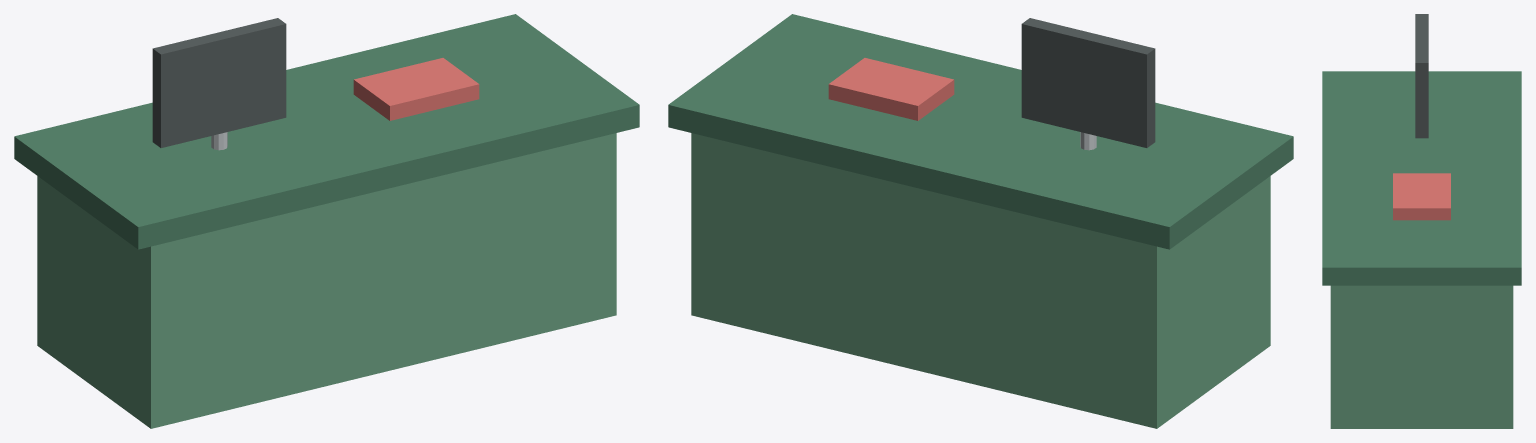
Rendered from checkout_counter.glb.
3 renders of one model, left to right at view 1: azimuth 30°, elevation 25°; view 2: azimuth 150°, elevation 25°; view 3: azimuth 270°, elevation 25°, orthographic. The views are drawn at different scales.
Parts seen in each view (by area): view 1: counter_body, counter_top, screen, scanner; view 2: counter_body, counter_top, screen, scanner; view 3: counter_top, counter_body, scanner, screen.
Part boxes in pixels (x1,y1,x2,y2): counter_body: [37, 133, 616, 428]; counter_top: [14, 14, 639, 249]; screen: [152, 18, 286, 147]; scanner: [353, 58, 479, 120]; counter_body: [691, 133, 1270, 428]; counter_top: [668, 14, 1293, 249]; screen: [1021, 18, 1155, 147]; scanner: [828, 58, 954, 120]; counter_top: [1322, 71, 1521, 285]; counter_body: [1330, 285, 1513, 428]; scanner: [1393, 173, 1450, 220]; screen: [1415, 14, 1428, 138].
Size of the model in its own units: 2.8 by 1.71 by 1.2.
